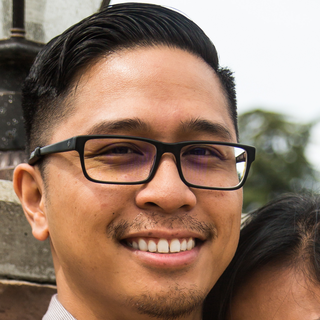eye: (88, 141, 147, 166), (182, 142, 228, 165)
